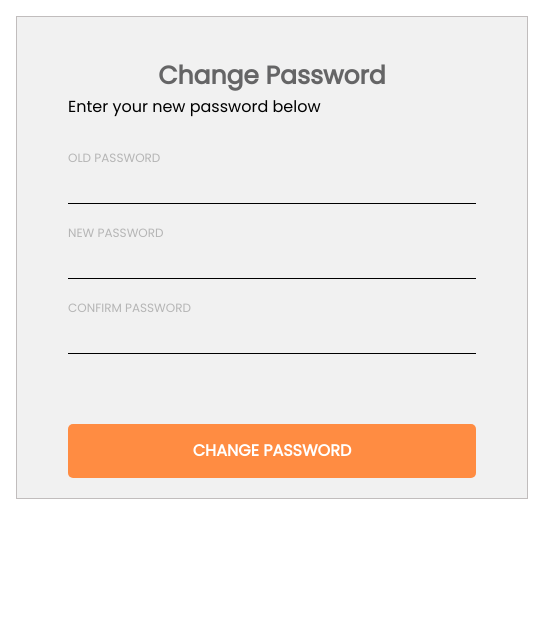
Test: should test  change password component › should test password size
Type "ok" into the password field with test id "oldpassword" at (272, 181), box [68, 158, 476, 204]
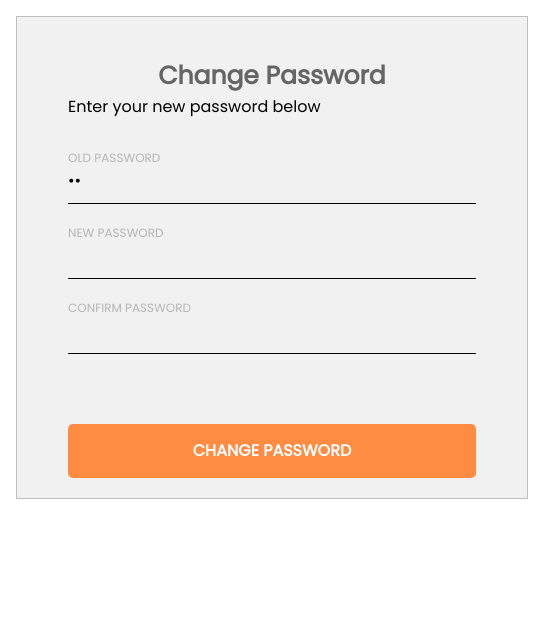
Type "okey" into the password field with test id "newpassword" at (272, 256), box [68, 234, 476, 278]
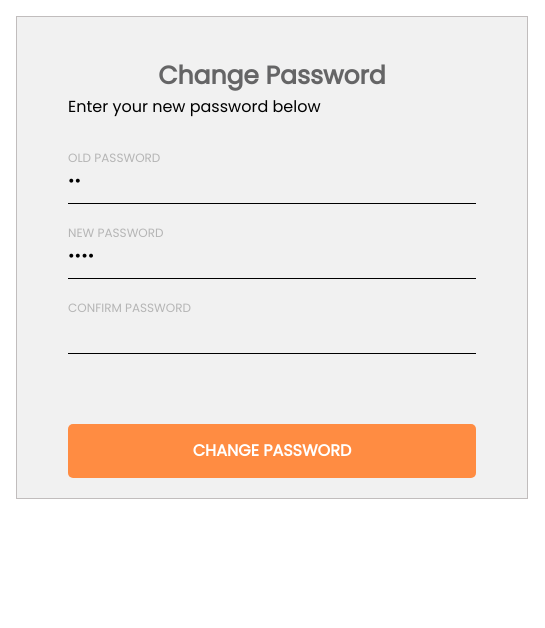
Type "okey" into the password field with test id "confirmpassword" at (272, 331), box [68, 308, 476, 354]
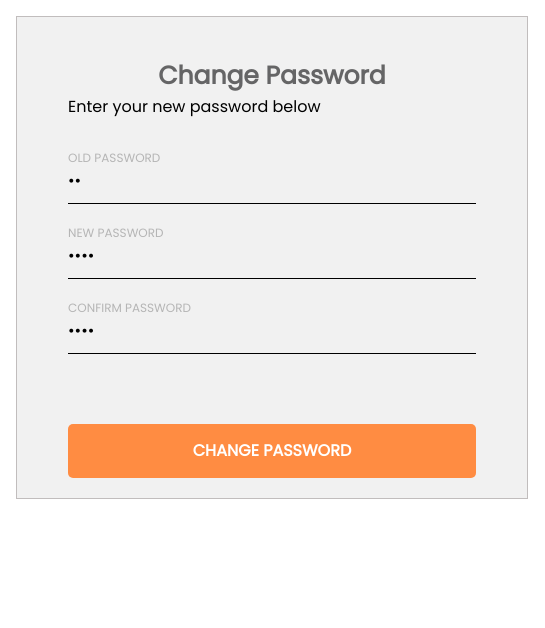
Click the button "CHANGE PASSWORD" at (272, 450), box [68, 424, 476, 478]
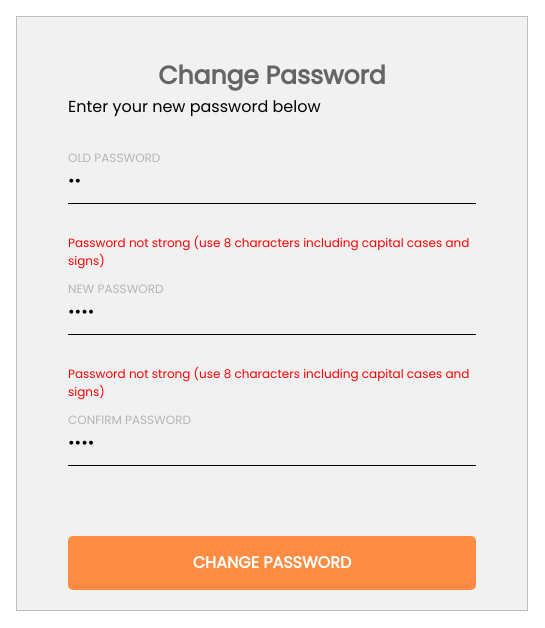
Expected: the text with test id "div2" reads "Password not strong (use 8 characters including capital cases and signs)", [68, 364, 469, 400]
